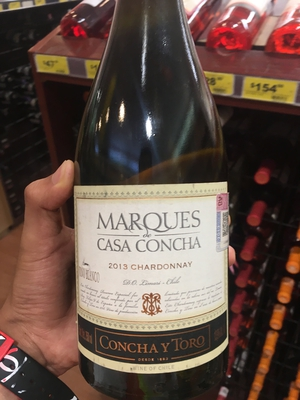marques de casa concha chardonnay: (61, 21, 259, 400)
